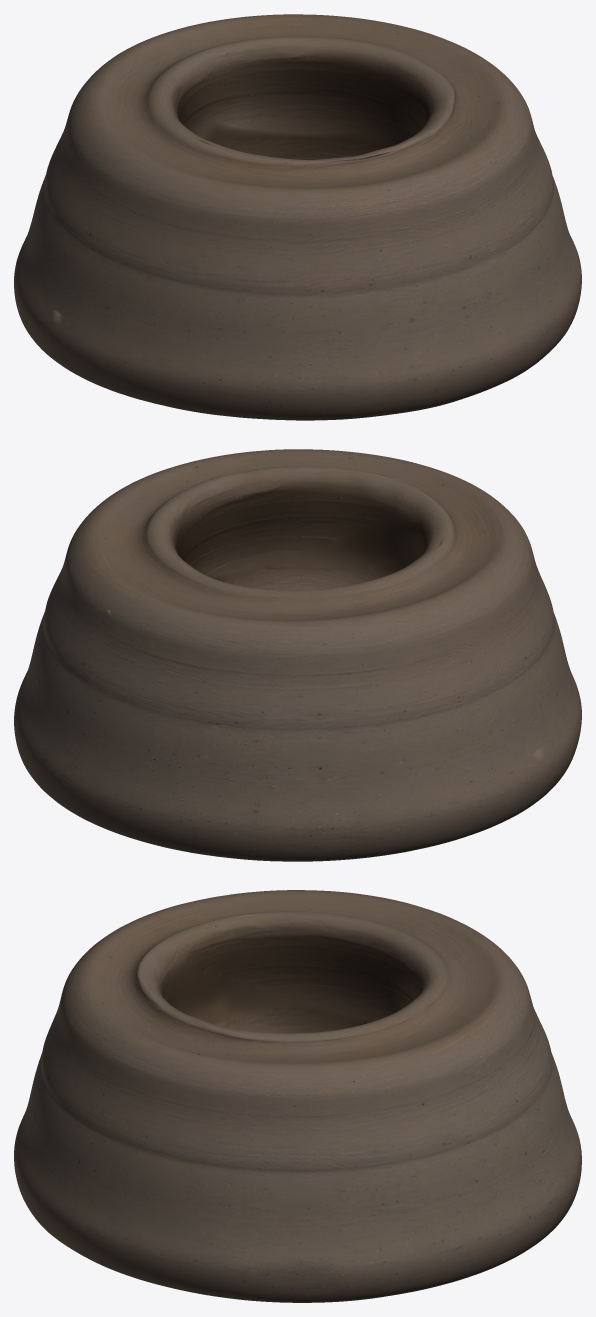
The model's file is opened-clay.glb.
The picture shows the model from 3 angles, top to bottom: view 1: azimuth 30°, elevation 25°; view 2: azimuth 150°, elevation 25°; view 3: azimuth 270°, elevation 25°; orthographic projection.
Visible parts, largest first — view 1: node_0; view 2: node_0; view 3: node_0.
Boxes of the visible parts, left/top/right/bottom form: node_0: left=14, top=14, right=581, bottom=420; node_0: left=14, top=449, right=581, bottom=861; node_0: left=14, top=890, right=581, bottom=1302.
Bounding box in the file's own units: 1.14 × 0.5065 × 1.14.
1 material, 1 textured.
